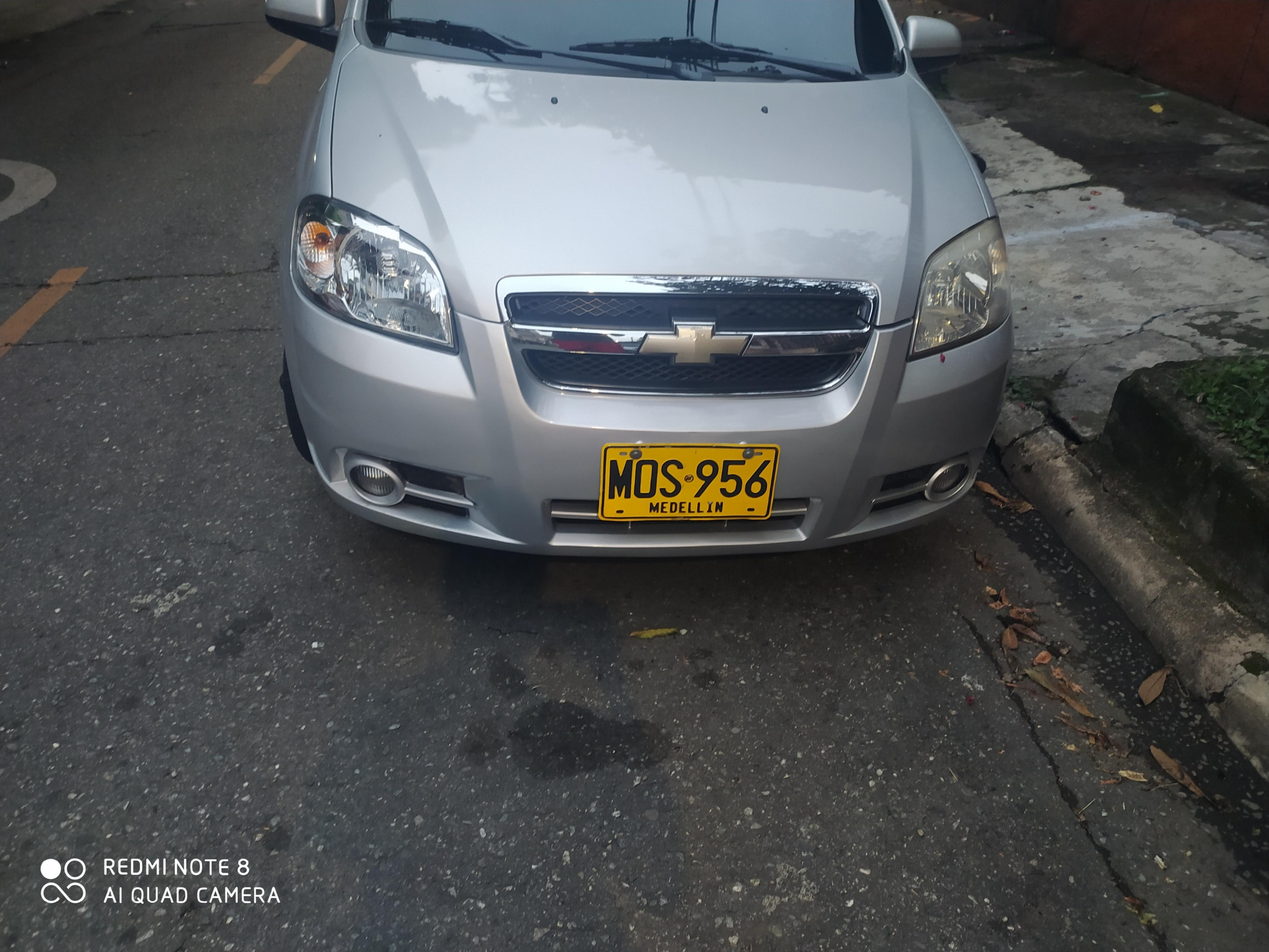placa: (596, 441, 781, 527)
